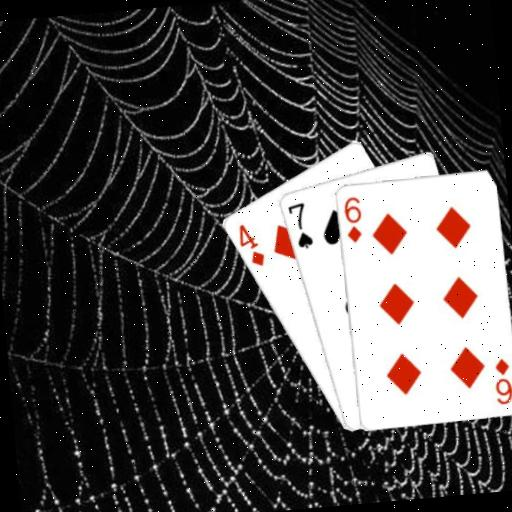4D: (234, 219, 267, 270)
6D: (339, 193, 365, 245), (489, 354, 512, 406)
7S: (284, 198, 315, 251)
